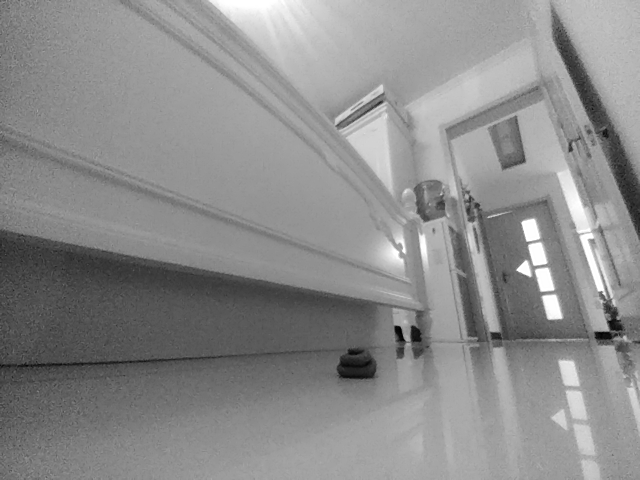pet feces: (337, 347, 378, 381)
